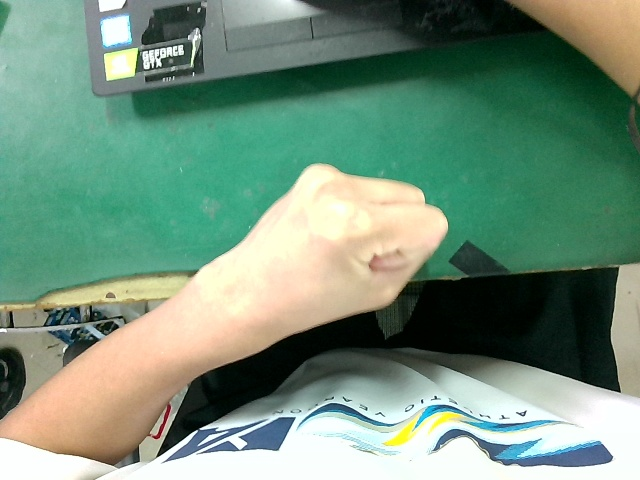stone: (189, 135, 470, 351)
